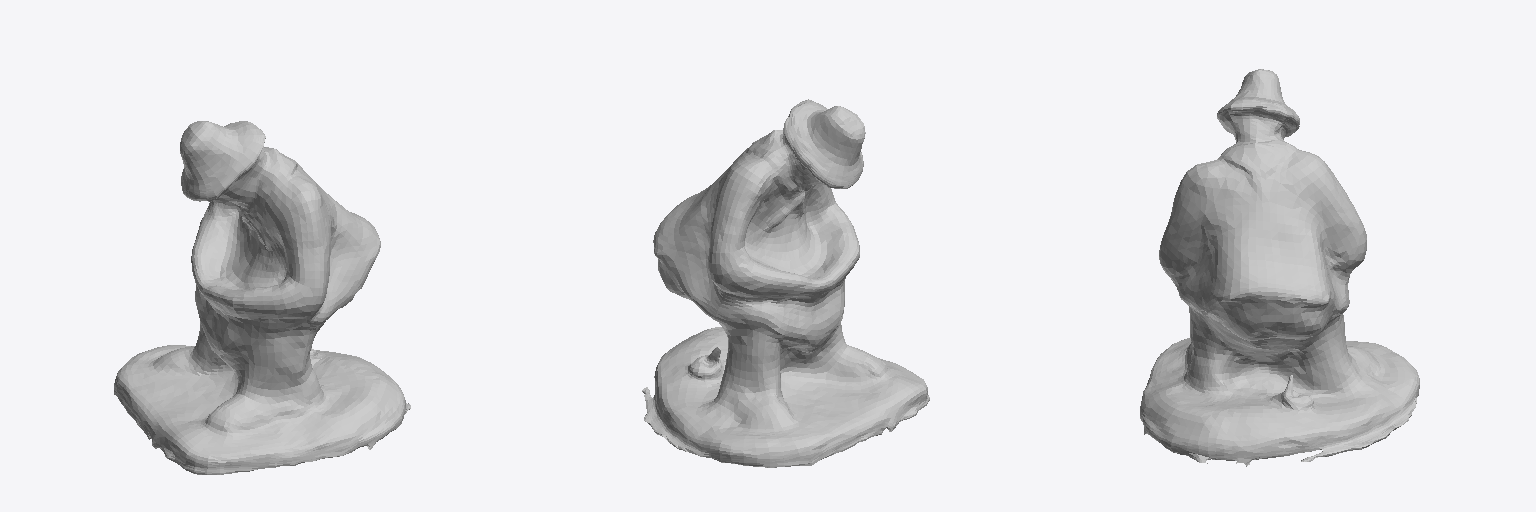
The model's file is caganer.obj.
The picture shows the model from 3 angles: view 1: azimuth 30°, elevation 25°; view 2: azimuth 150°, elevation 25°; view 3: azimuth 270°, elevation 25°; orthographic projection.
Visible parts, largest first — view 1: lowpoly_caganer; view 2: lowpoly_caganer; view 3: lowpoly_caganer.
Part boxes in pixels (left/top/right/bottom): lowpoly_caganer: left=114, top=121, right=410, bottom=474; lowpoly_caganer: left=642, top=99, right=929, bottom=467; lowpoly_caganer: left=1140, top=69, right=1419, bottom=466.
Bounding box in the file's own units: 0.5648 × 0.7152 × 0.5806.